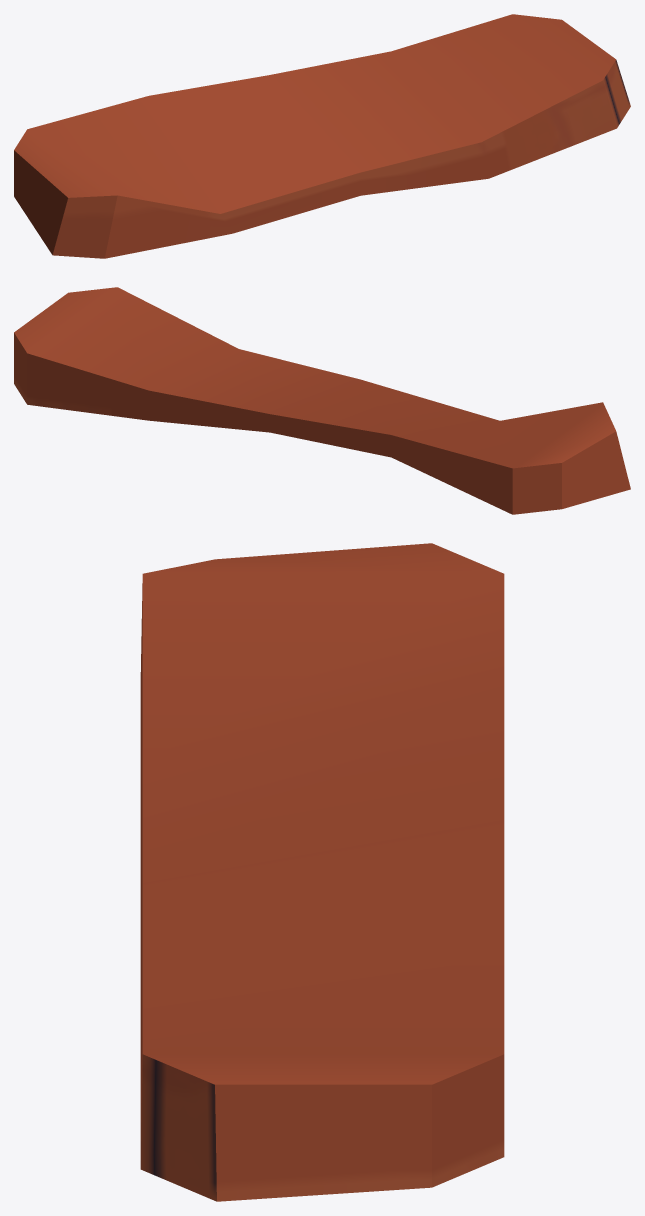
The model's file is Stairs_1.fbx.
3 views of the same model, one above another, from view 1: azimuth 30°, elevation 25°; view 2: azimuth 150°, elevation 25°; view 3: azimuth 270°, elevation 25° (orthographic). The views are drawn at different scales.
Visible parts, largest first — view 1: Stairs; view 2: Stairs; view 3: Stairs.
Boxes of the visible parts, x1,y1,x2,y2 form: Stairs: (14, 14, 630, 258); Stairs: (14, 287, 630, 514); Stairs: (140, 543, 504, 1201).
Size of the model in its own units: 369 by 101 by 47.1.
